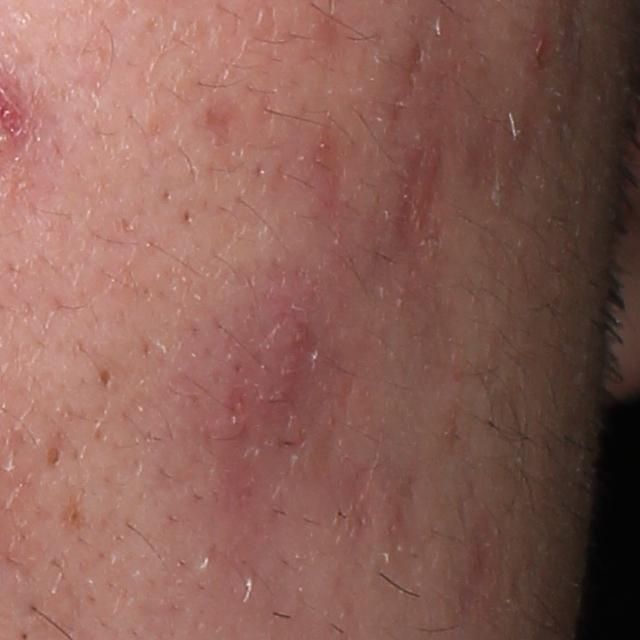atrophic_scar: (216, 285, 395, 572), (395, 134, 451, 244), (312, 111, 353, 223)
comedo: (42, 440, 65, 471), (97, 368, 117, 389)
papule: (528, 32, 554, 72)
